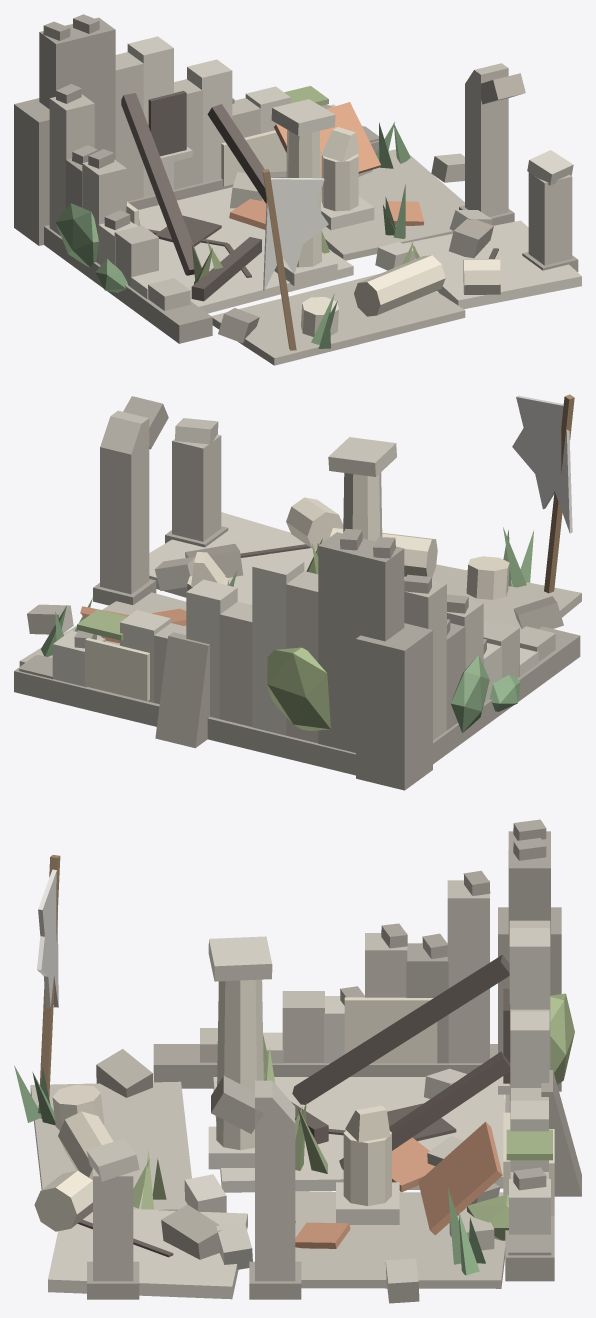
Rendered from ruin.glb.
The picture shows the model from 3 angles, top to bottom: view 1: azimuth 30°, elevation 25°; view 2: azimuth 150°, elevation 25°; view 3: azimuth 270°, elevation 25°; orthographic projection. The views are drawn at different scales.
Visible parts, largest first — view 1: ruin; view 2: ruin; view 3: ruin.
Boxes of the visible parts, x1,y1,x2,y2 form: ruin: [14, 14, 581, 365]; ruin: [14, 394, 581, 790]; ruin: [14, 819, 581, 1303].
Size of the model in its own units: 1 by 0.4936 by 0.9726.
